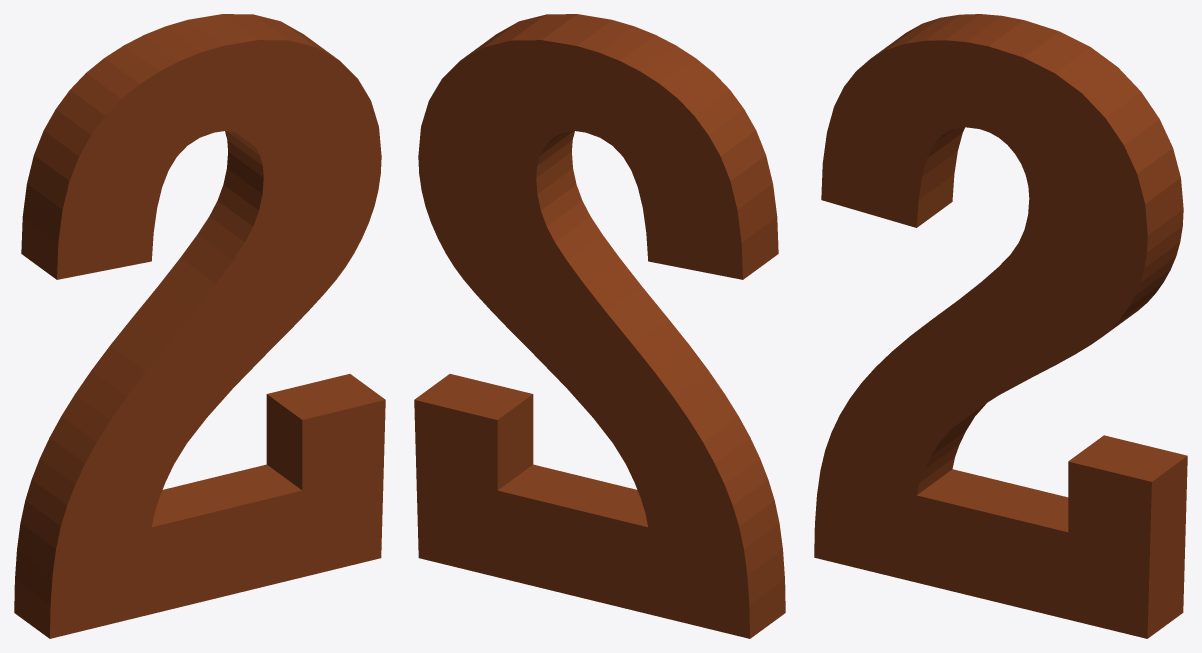
File: num_2.glb
3 views of the same model, side by side, from view 1: azimuth 30°, elevation 25°; view 2: azimuth 150°, elevation 25°; view 3: azimuth 330°, elevation 25° (orthographic).
Visible parts, largest first — view 1: num_2; view 2: num_2; view 3: num_2.
Boxes of the visible parts, x1,y1,x2,y2 form: num_2: (14, 14, 385, 638); num_2: (414, 14, 785, 638); num_2: (814, 14, 1187, 638).
Bounding box in the file's own units: 1.09 × 1.71 × 0.2.
